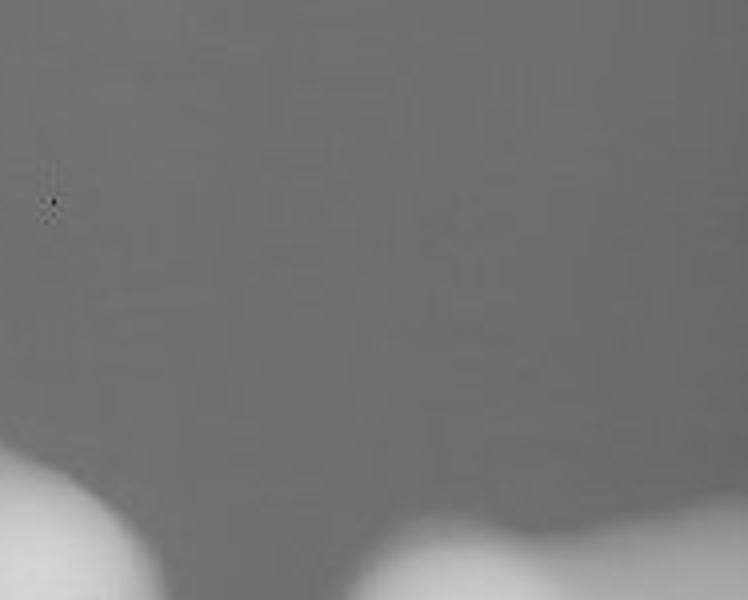defect: (45, 191, 66, 213)
